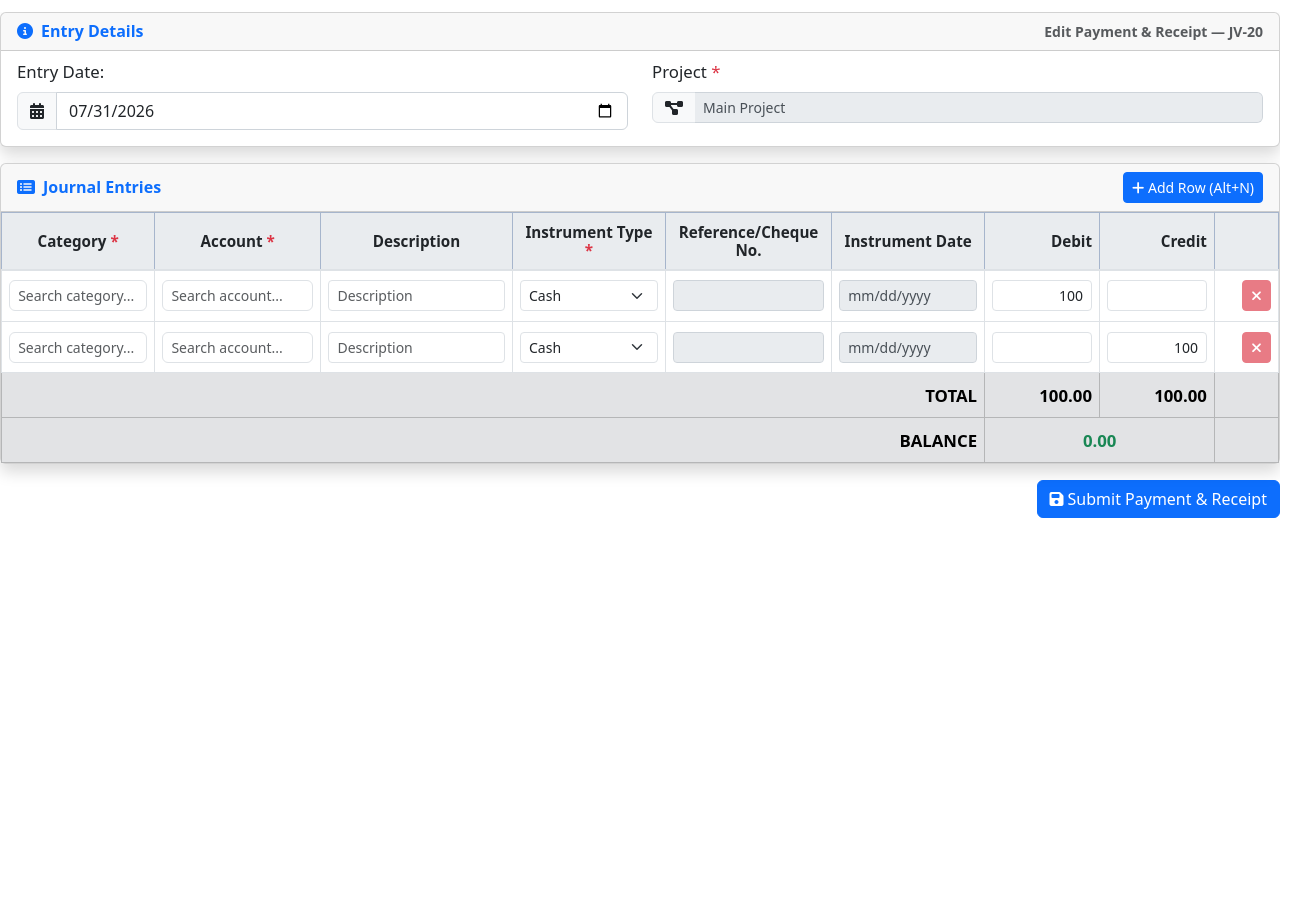
PaymentReceiptForm › shows the posted result and printing after auto-approval in revision mode
Click the button "Submit Payment & Receipt": (1158, 499) 1036,480 -> 1280,518
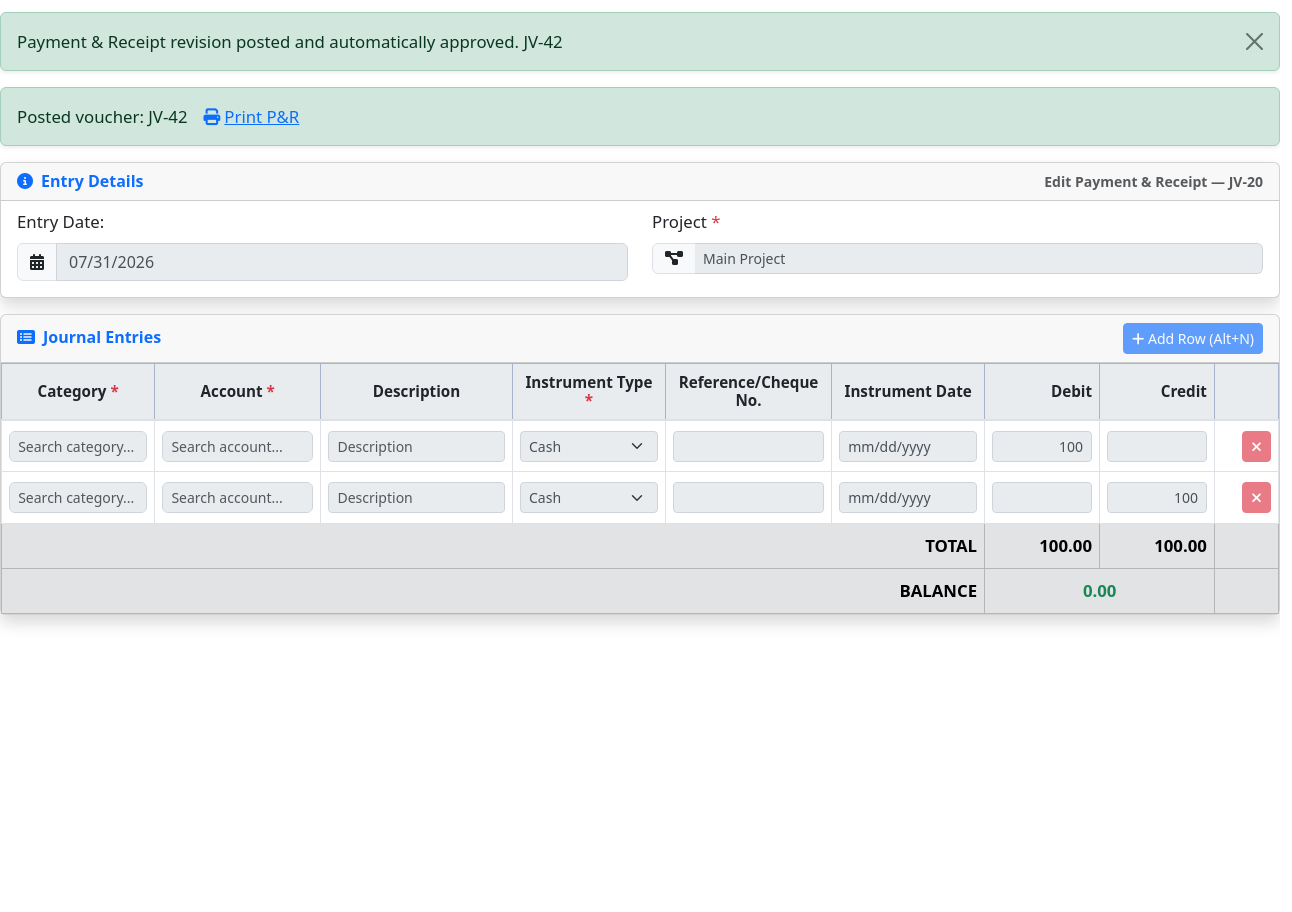
Now the text "Payment & Receipt revision posted and automatically approved. JV-42" is shown, box 0,12 -> 1280,71
Now the number field named "Entry 1 debit" is disabled, box 992,431 -> 1092,462
